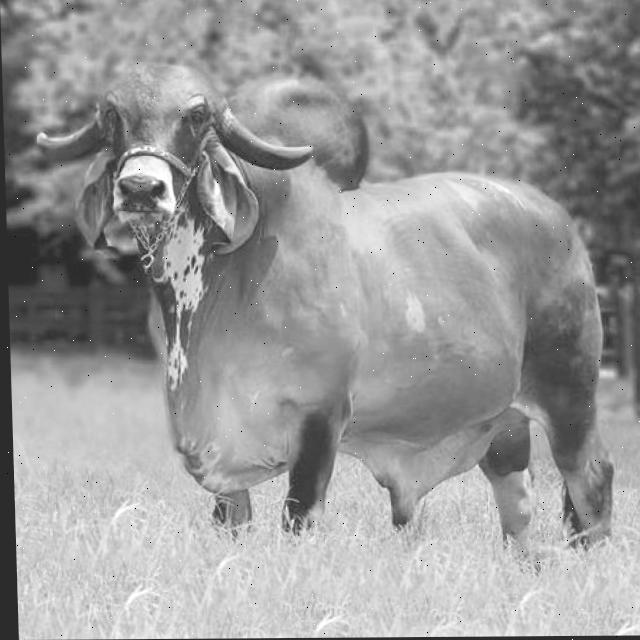Cow: (33, 56, 619, 575)
